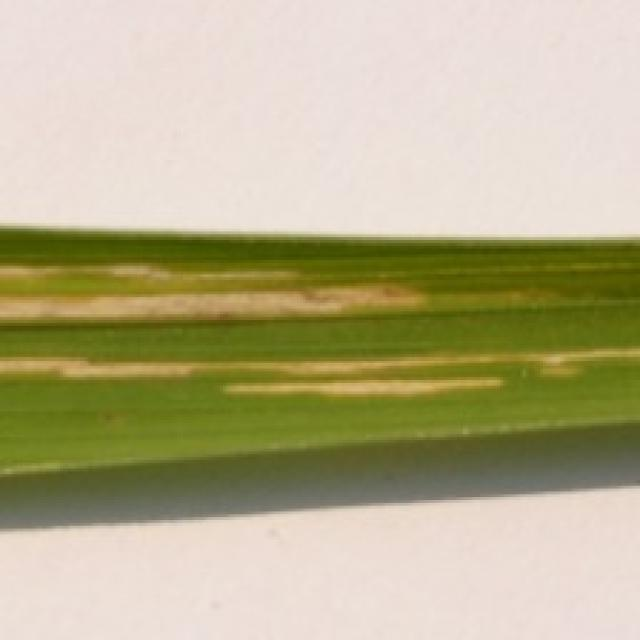Rice___Bacterial_Leaf_Blight: (0, 223, 637, 479)
